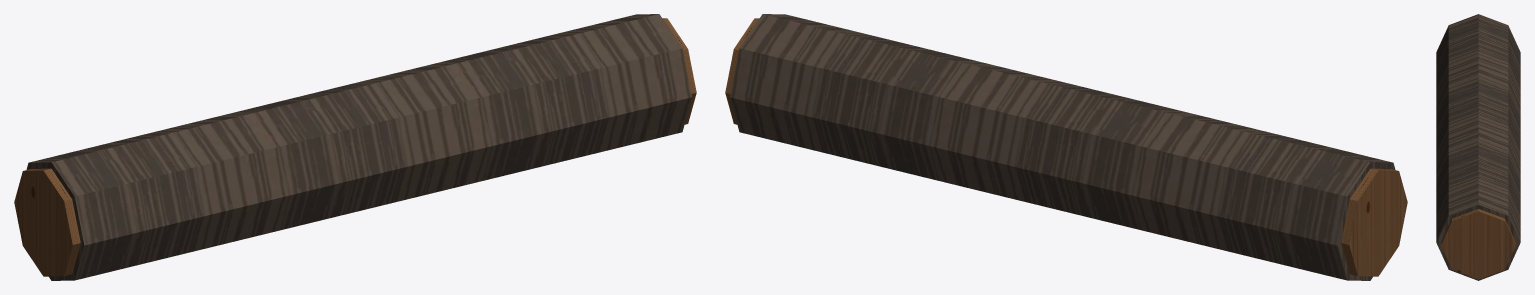
Rendered from fallen_log.glb.
3 views of the same model, side by side, from view 1: azimuth 30°, elevation 25°; view 2: azimuth 150°, elevation 25°; view 3: azimuth 270°, elevation 25° (orthographic). The views are drawn at different scales.
Visible parts, largest first — view 1: Fallen_Log; view 2: Fallen_Log; view 3: Fallen_Log.
Boxes of the visible parts, x1,y1,x2,y2 form: Fallen_Log: (14,14,696,280); Fallen_Log: (725,14,1407,280); Fallen_Log: (1436,14,1520,280).
Bounding box in the file's own units: 3.08 × 0.5598 × 0.5598.
2 materials, 2 textured.
